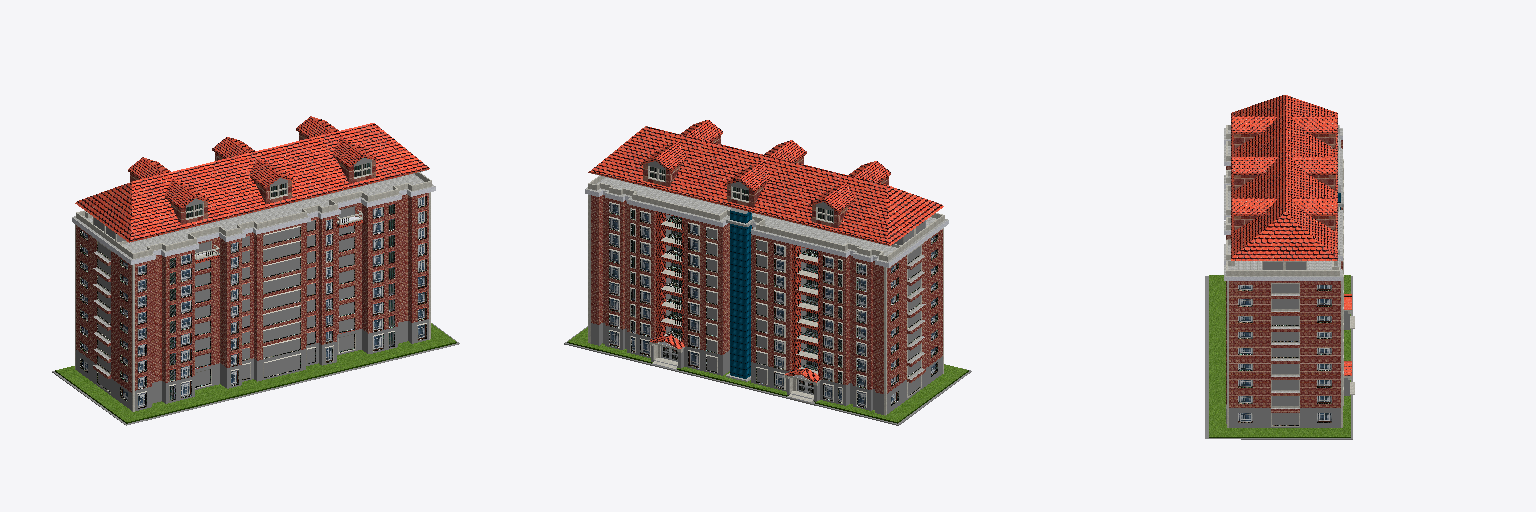
The picture shows the model from 3 angles: view 1: azimuth 30°, elevation 25°; view 2: azimuth 150°, elevation 25°; view 3: azimuth 270°, elevation 25°; orthographic projection.
Visible parts, largest first — view 1: low_building1; view 2: low_building1, machine2, machine1; view 3: low_building1.
Part boxes in pixels (left/top/right/bottom): low_building1: left=52, top=116, right=459, bottom=425; low_building1: left=564, top=120, right=971, bottom=425; machine2: left=785, top=368, right=822, bottom=403; machine1: left=649, top=334, right=684, bottom=369; low_building1: left=1205, top=95, right=1352, bottom=439.
Size of the model in its own units: 549 by 321 by 212.
Materials: 15 (12 with a texture image).